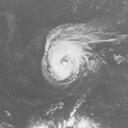cyclone: (41, 23, 92, 87)
